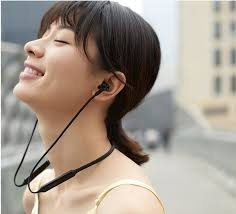earphone: (91, 70, 127, 101)
